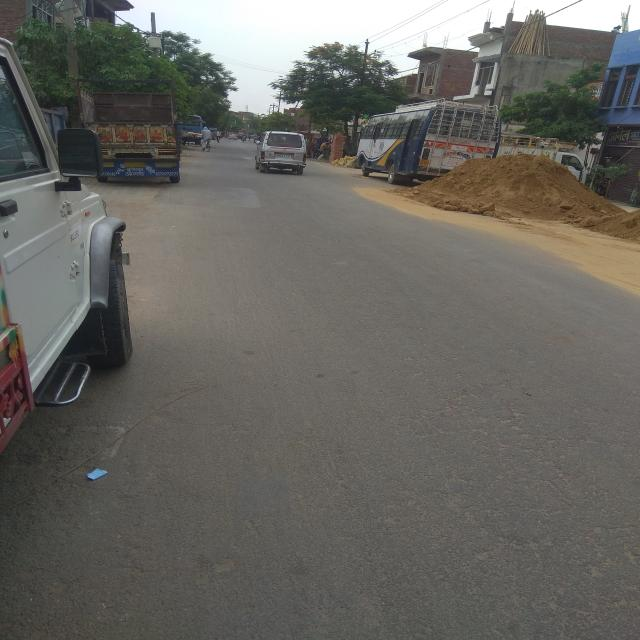Bus: (357, 100, 500, 182)
Car: (255, 131, 307, 175)
Truck: (77, 79, 180, 182)
